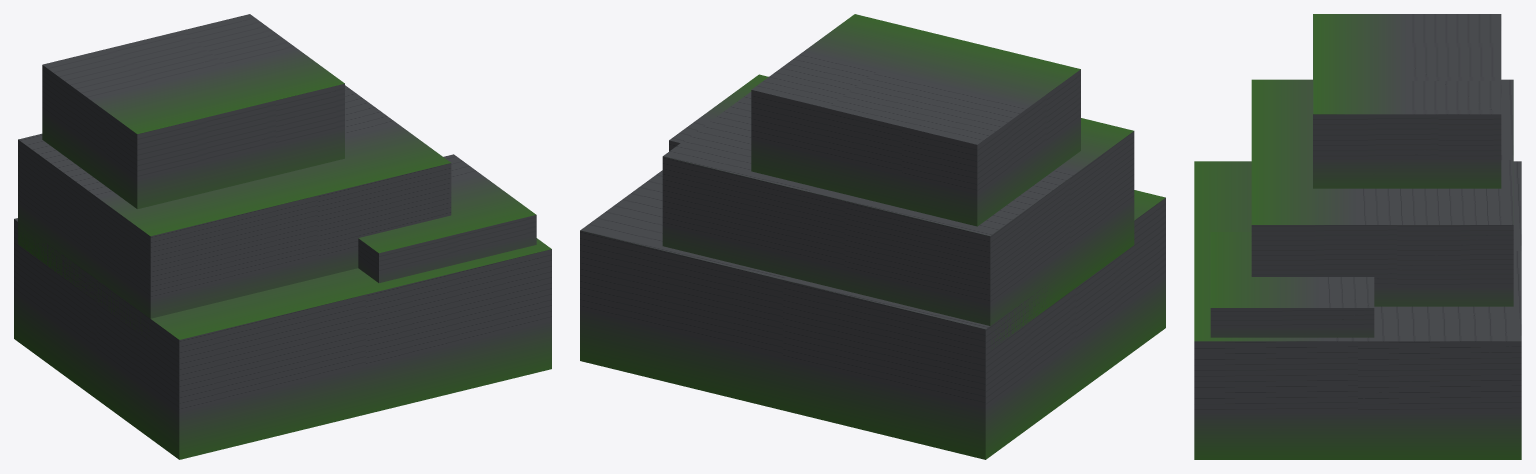
Rendered from rock_outcrop.glb.
3 renders of one model, left to right at view 1: azimuth 30°, elevation 25°; view 2: azimuth 150°, elevation 25°; view 3: azimuth 270°, elevation 25°, orthographic. The views are drawn at different scales.
Visible parts, largest first — view 1: Node_RockOutcrop; view 2: Node_RockOutcrop; view 3: Node_RockOutcrop.
Boxes of the visible parts, x1=… form: Node_RockOutcrop: x1=14, y1=14, x2=551, y2=459; Node_RockOutcrop: x1=580, y1=14, x2=1165, y2=459; Node_RockOutcrop: x1=1194, y1=14, x2=1521, y2=459.
Size of the model in its own units: 5.2 by 3.7 by 4.
1 material, 1 textured.
